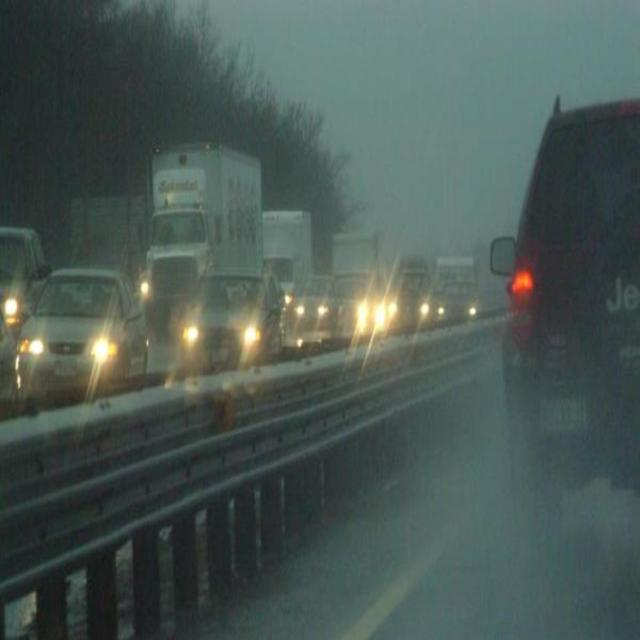bus: (144, 151, 263, 298), (264, 209, 310, 308), (332, 232, 378, 331)
car: (496, 95, 636, 528), (19, 264, 150, 412), (182, 267, 278, 354), (1, 227, 50, 331), (286, 275, 338, 330), (384, 272, 430, 318), (436, 281, 478, 316)
